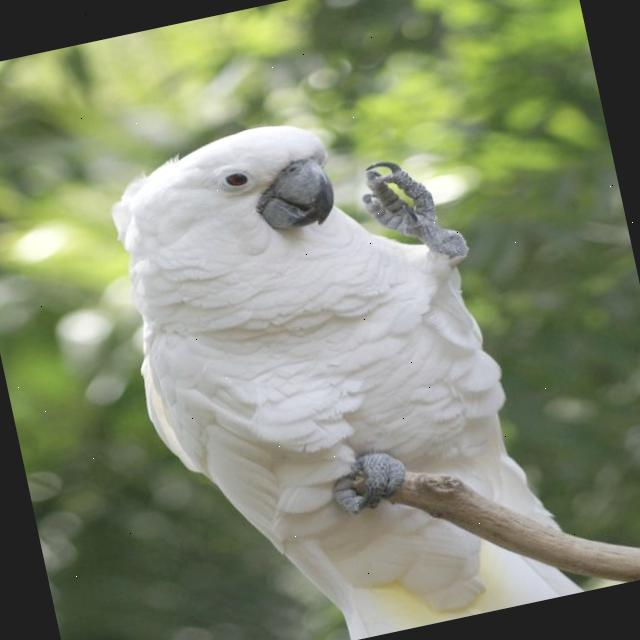Kakatua Putih: (54, 56, 603, 640)
